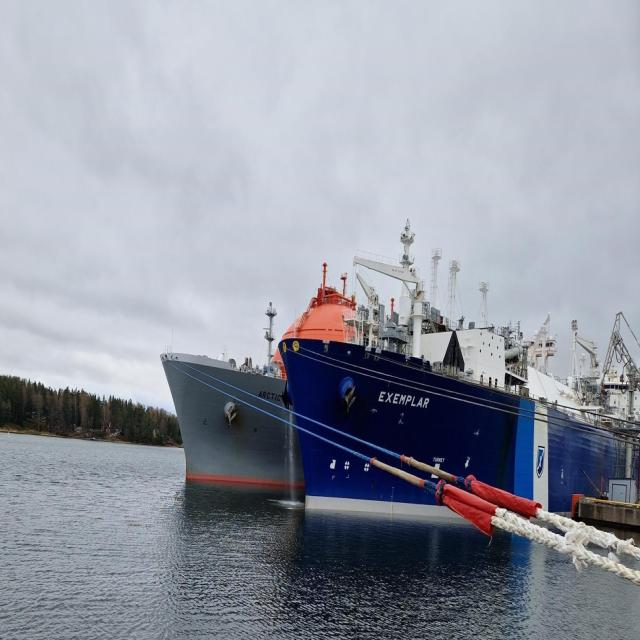boat: (278, 204, 640, 546)
